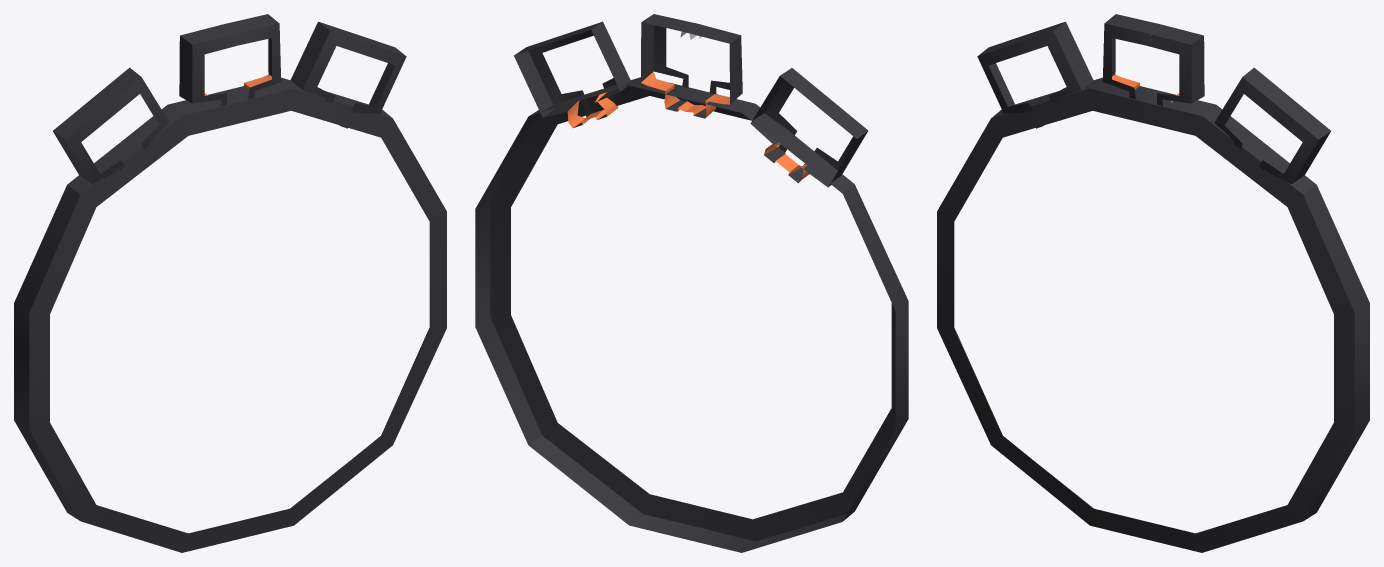
The model's file is OUT_stopwatch.glb.
3 views of the same model, side by side, from view 1: azimuth 30°, elevation 25°; view 2: azimuth 150°, elevation 25°; view 3: azimuth 330°, elevation 25° (orthographic).
Visible parts, largest first — view 1: OUT; view 2: OUT; view 3: OUT.
Part boxes in pixels (x1,y1,x2,y2): OUT: (14,14,446,552); OUT: (475,14,908,552); OUT: (937,14,1369,552).
Bounding box in the file's own units: 4.33 × 4.99 × 0.2838.
Materials: 1 (1 with a texture image).
